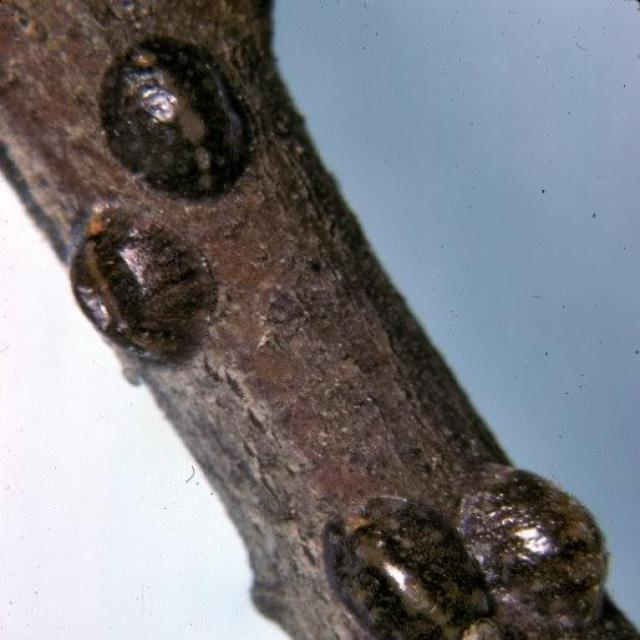Black Scale: (324, 465, 608, 639), (98, 37, 255, 199), (71, 201, 218, 365)
